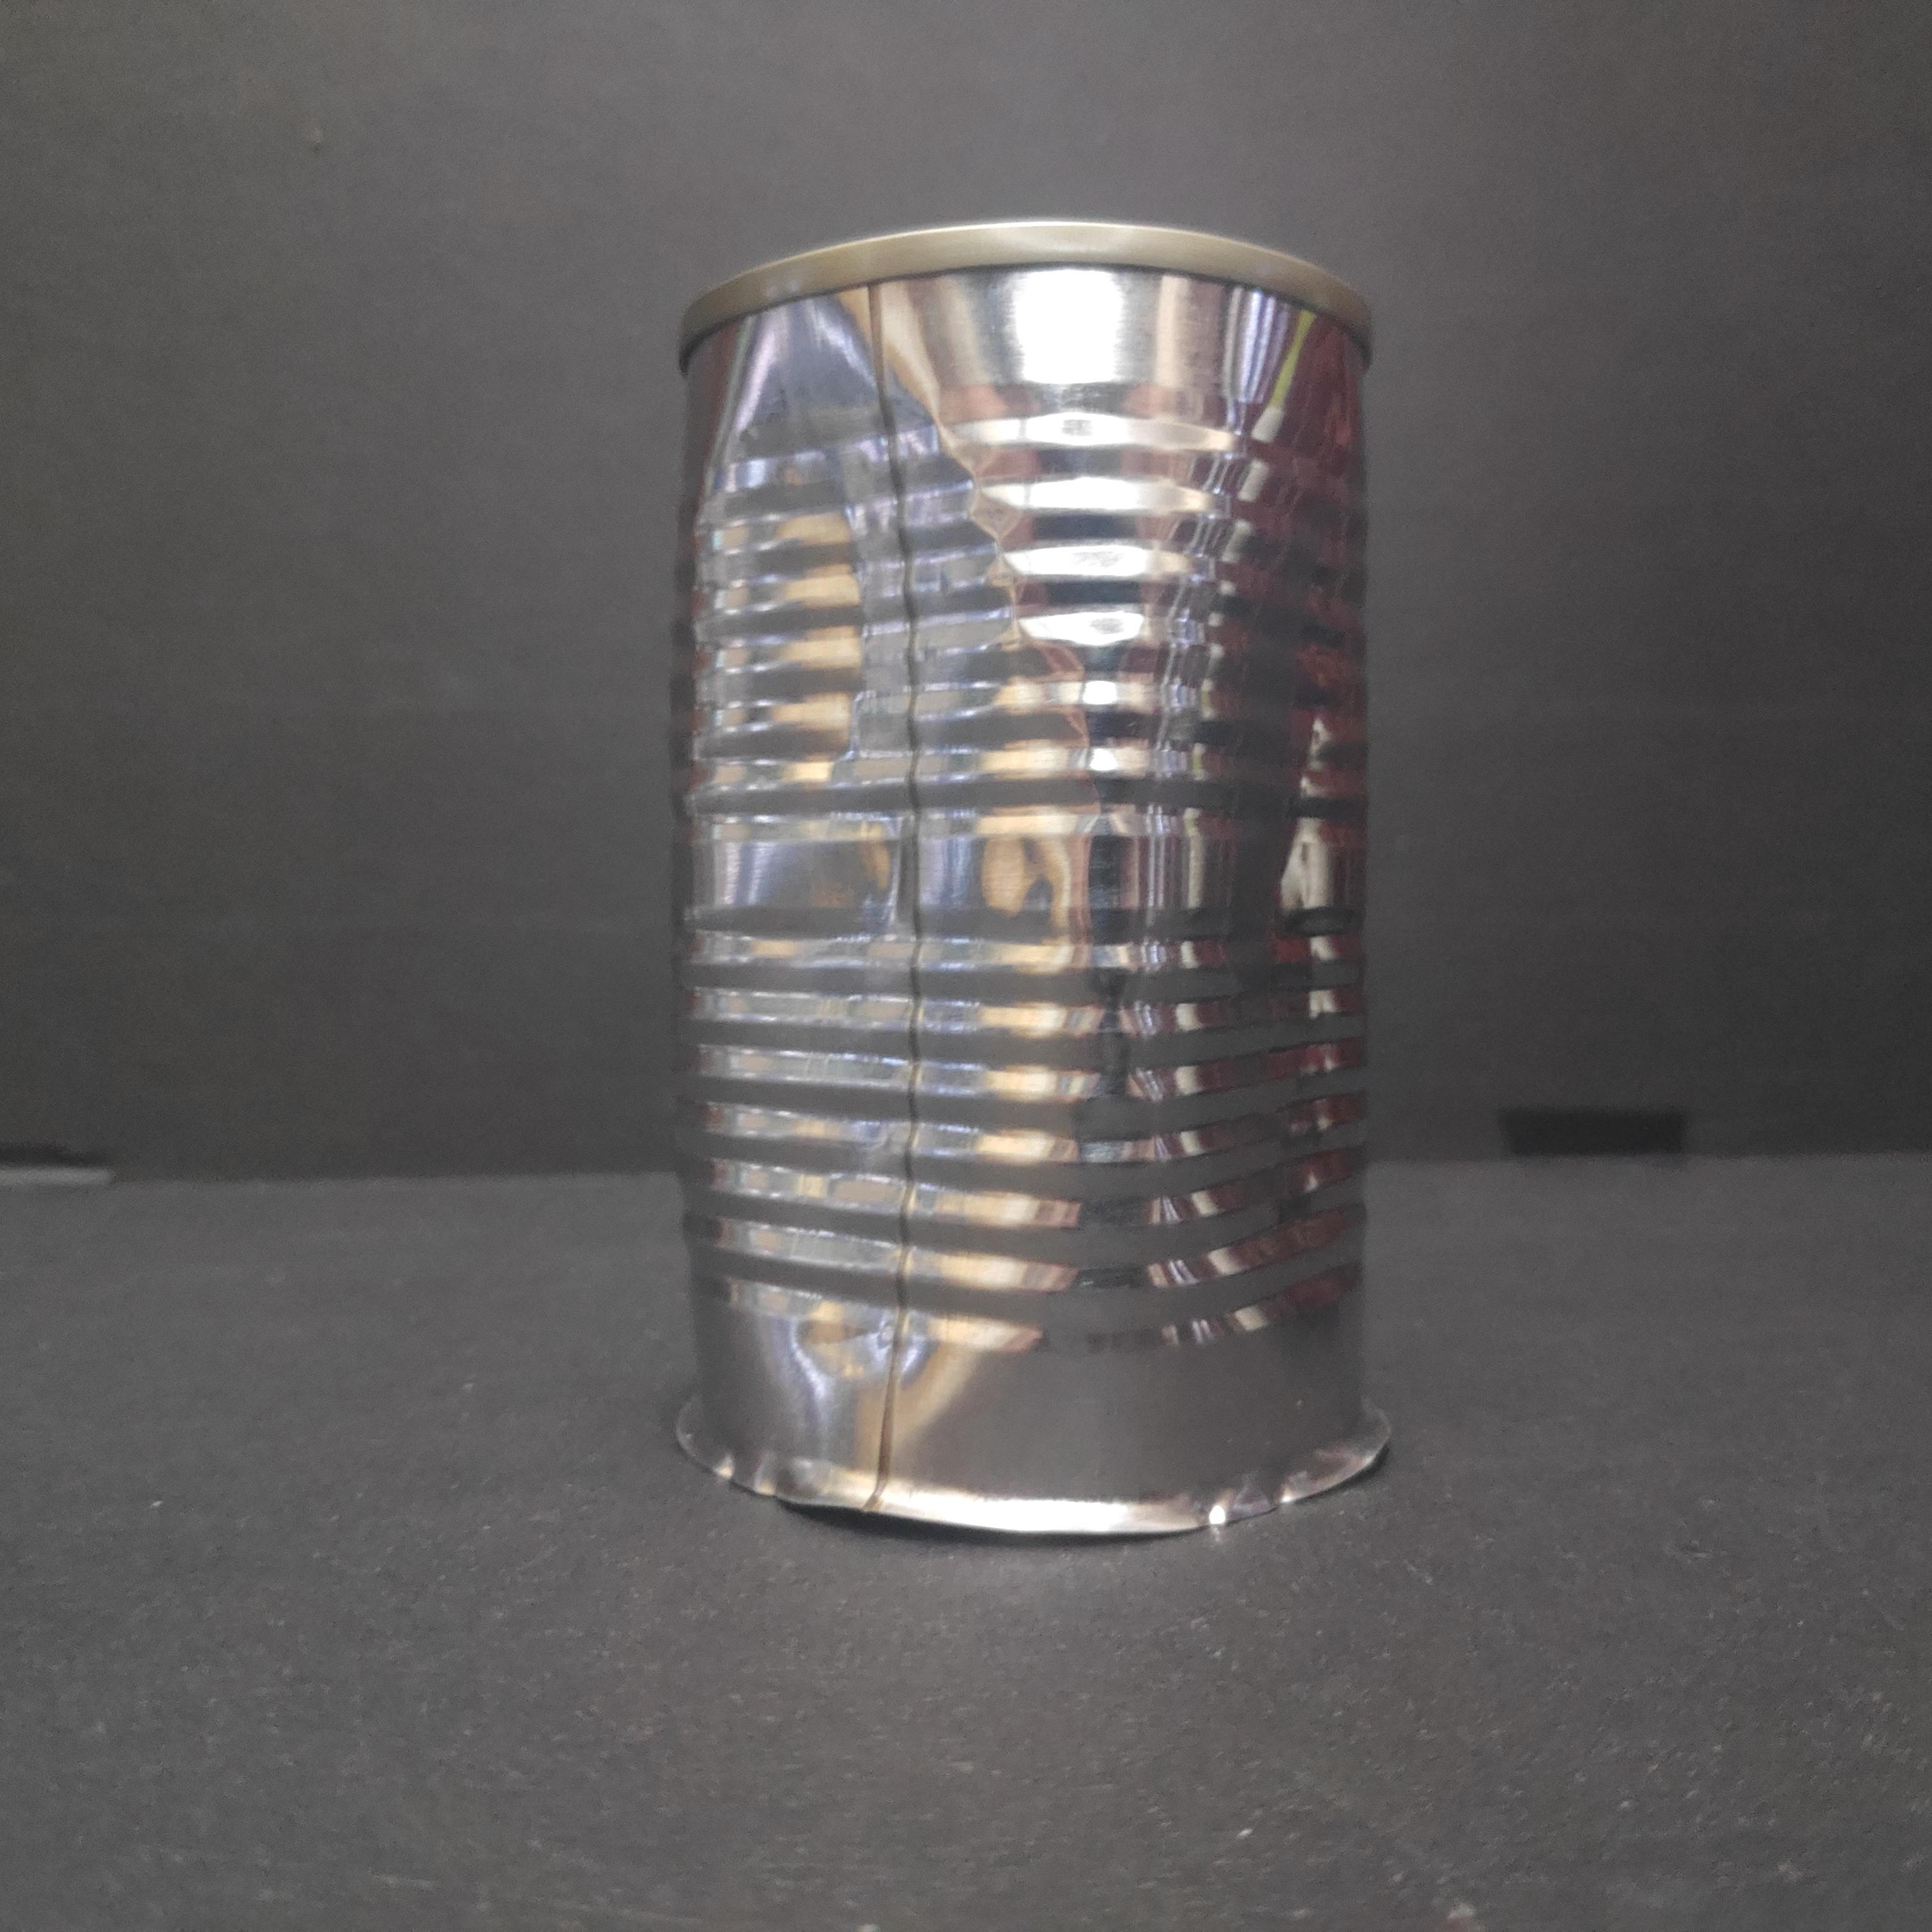Dented: (645, 198, 1393, 1559)
